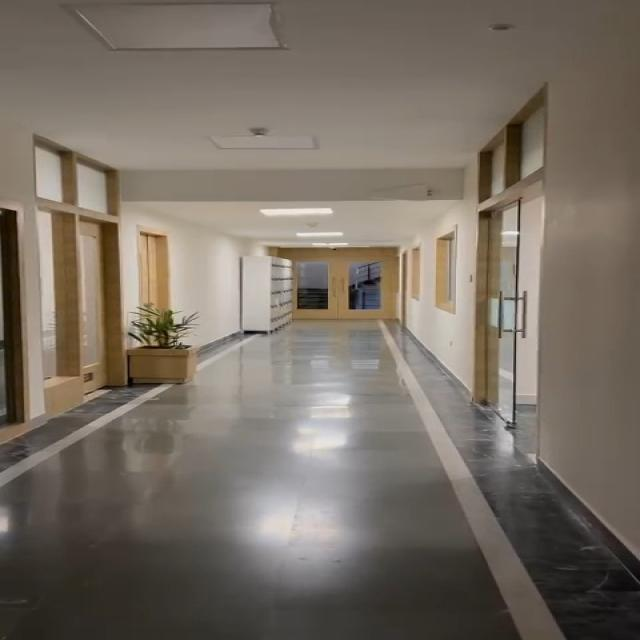door: (25, 144, 127, 398), (486, 148, 541, 459), (283, 246, 405, 321)
floor: (16, 430, 548, 640), (230, 337, 432, 430)
furniture: (129, 299, 189, 390)
wall: (531, 69, 640, 498), (406, 214, 479, 354), (166, 208, 242, 336)
